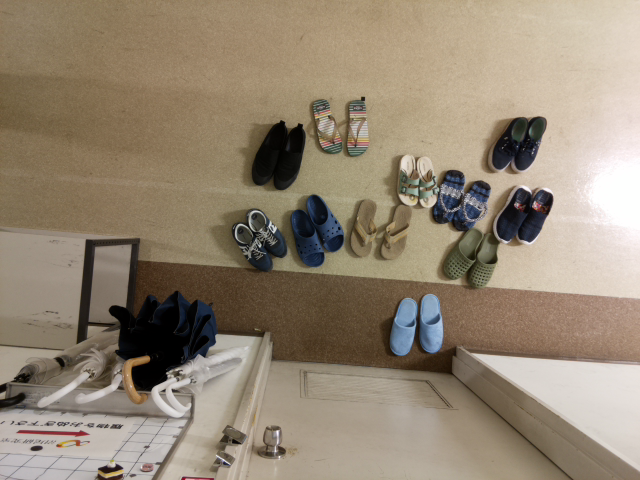Copy of Copy of Copy of Copy of Copy of Copy of Copy of Copy of Copy of Copy of: (481, 108, 534, 179), (303, 187, 349, 259), (490, 178, 535, 250), (514, 183, 559, 255), (284, 205, 329, 277), (503, 110, 549, 177), (444, 174, 495, 234), (435, 224, 485, 285), (463, 231, 508, 293), (406, 148, 445, 214), (387, 146, 426, 211), (430, 164, 469, 229)
Copy of Copy of Copy of Copy of Copy of Copy of Copy of Copy of Copy of shoe: (266, 121, 316, 192)
Copy of Copy of Copy of Copy of Copy of Copy of Copy of Copy of shoe: (246, 116, 296, 186)
Copy of Copy of Copy of Copy of Copy of Copy of Copy of shoe: (341, 88, 382, 159)
Copy of Copy of Copy of Copy of Copy of Copy of shoe: (304, 92, 345, 162)
Copy of Copy of Copy of Copy of Copy of shoe: (375, 197, 415, 267)
Copy of Copy of Copy of Copy of Copy of umbrella: (1, 317, 128, 411)
Copy of Copy of Copy of Copy of shoe: (344, 194, 384, 265)
Copy of Copy of Copy of Copy of umbrella: (25, 341, 133, 413)
Copy of Copy of Copy of shoe: (411, 288, 452, 359)
Copy of Copy of Copy of umbrella: (69, 348, 139, 413)
Copy of Copy of shoe: (378, 290, 419, 360)
Copy of Copy of umbrella: (103, 297, 222, 414)
Copy of shoe: (239, 205, 285, 262)
Copy of umbrella: (162, 351, 258, 420)
shoe: (225, 216, 277, 277)
umbrella: (149, 335, 256, 423)
